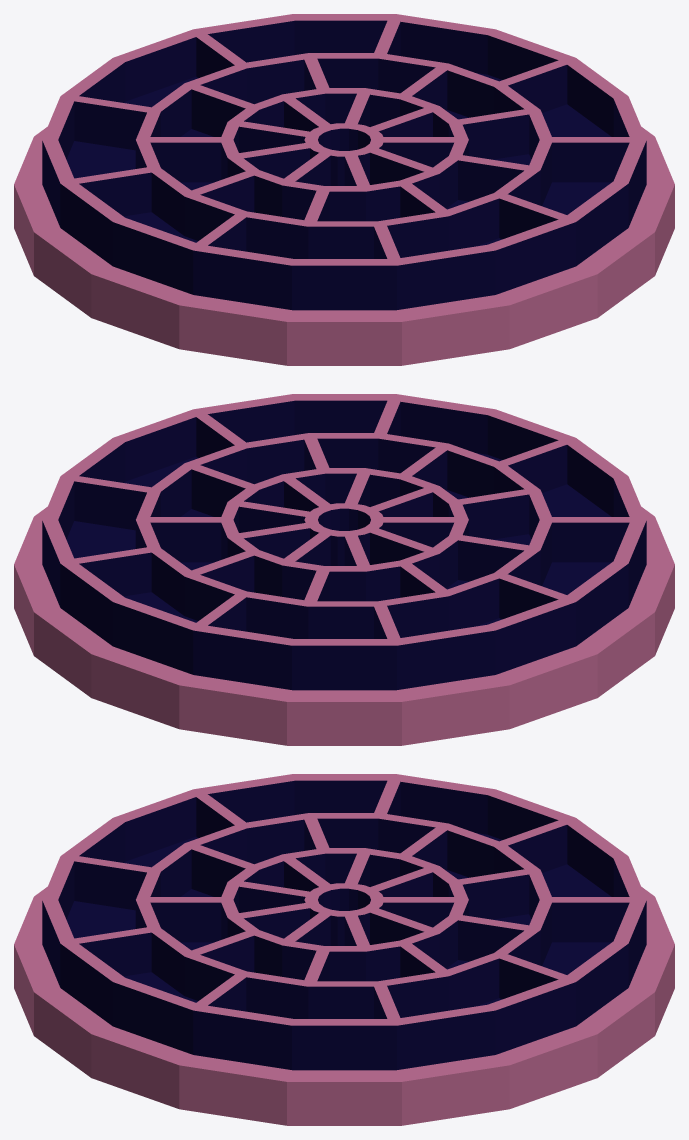
Rendered from Manhole.fbx.
3 views of the same model, one above another, from view 1: azimuth 30°, elevation 25°; view 2: azimuth 150°, elevation 25°; view 3: azimuth 270°, elevation 25° (orthographic).
Parts seen in each view (by area): view 1: Manhole; view 2: Manhole; view 3: Manhole.
Part boxes in pixels (bbox=[...]): Manhole: bbox=[14, 14, 674, 365]; Manhole: bbox=[14, 394, 674, 745]; Manhole: bbox=[14, 774, 674, 1125].
Size of the model in its own units: 1.97 by 0.2951 by 2.
